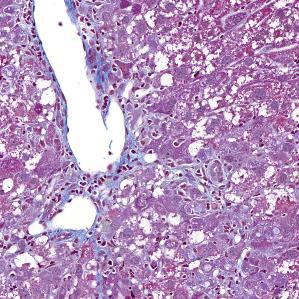fibrosis: (112, 155, 198, 217)
